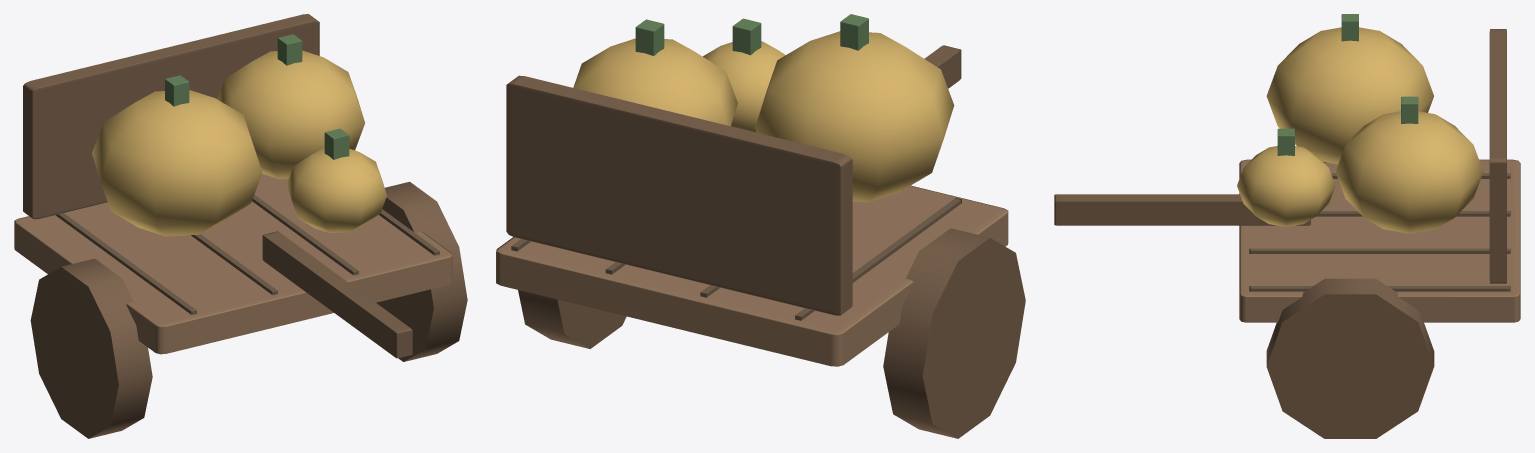
The model's file is autumncart-3.glb.
3 views of the same model, side by side, from view 1: azimuth 30°, elevation 25°; view 2: azimuth 150°, elevation 25°; view 3: azimuth 270°, elevation 25° (orthographic). The views are drawn at different scales.
Visible parts, largest first — view 1: autumncart-3-0; view 2: autumncart-3-0; view 3: autumncart-3-0.
Part boxes in pixels (bbox=[...]): autumncart-3-0: bbox=[14, 14, 467, 438]; autumncart-3-0: bbox=[496, 14, 1025, 438]; autumncart-3-0: bbox=[1054, 14, 1520, 438].
Bounding box in the file's own units: 0.775 × 0.6877 × 0.945.
